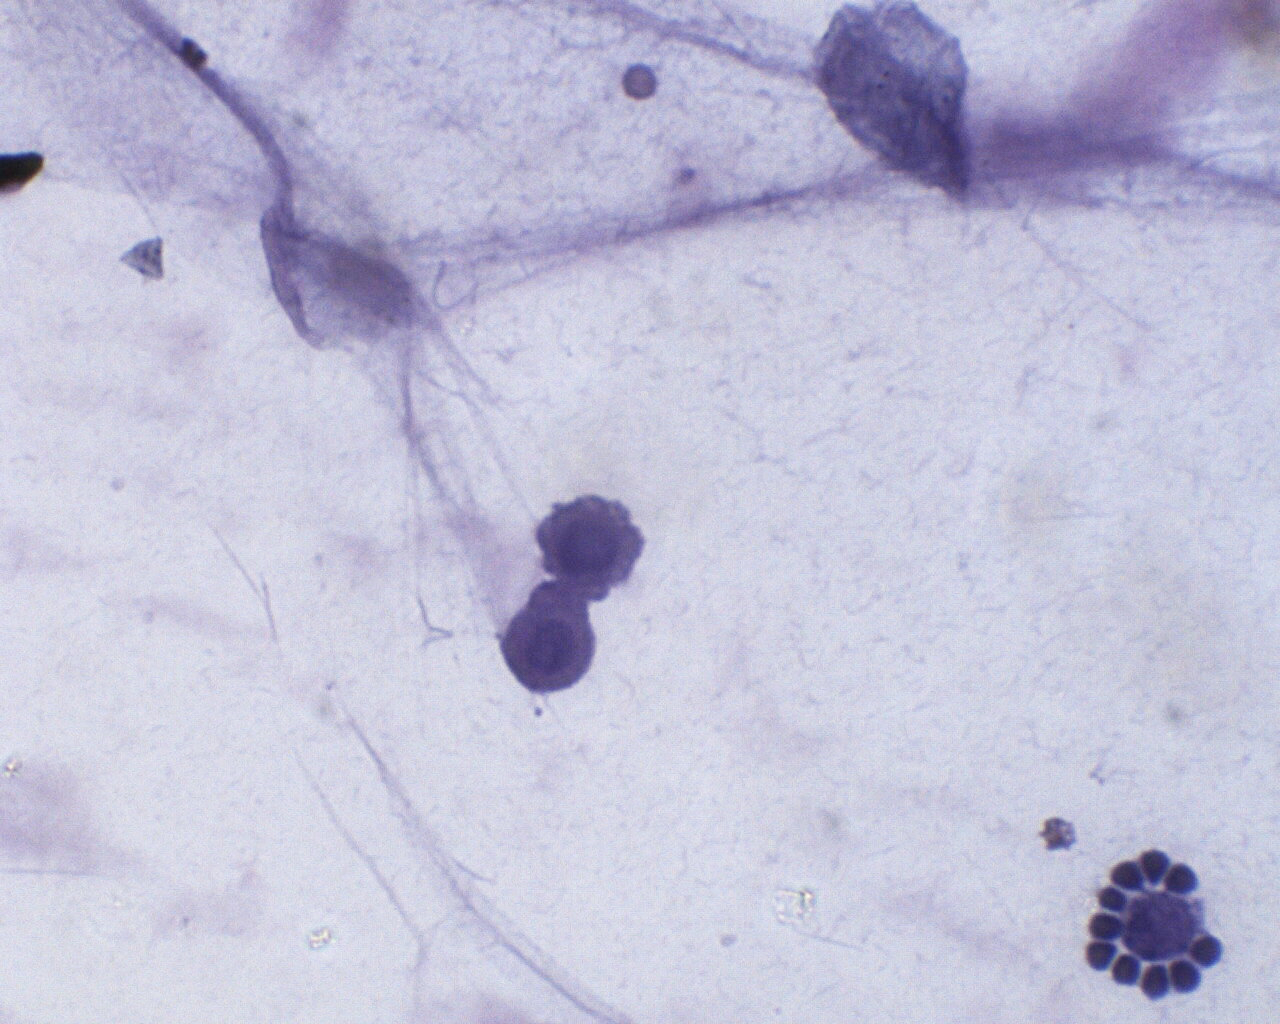ab: (534, 481, 646, 594), (495, 600, 602, 697)
lymph: (1188, 933, 1229, 973), (1088, 909, 1134, 944), (1164, 859, 1200, 898)
